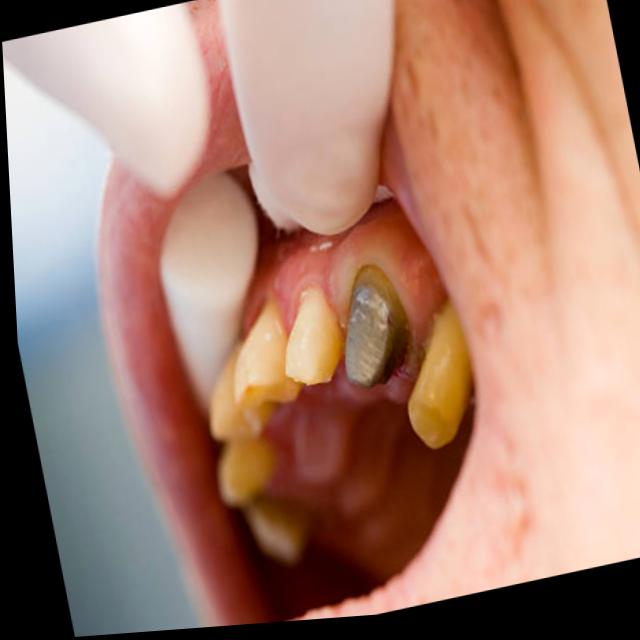tooth-discoloration: (407, 301, 472, 449), (233, 301, 299, 431), (345, 265, 409, 385), (285, 286, 344, 382)
